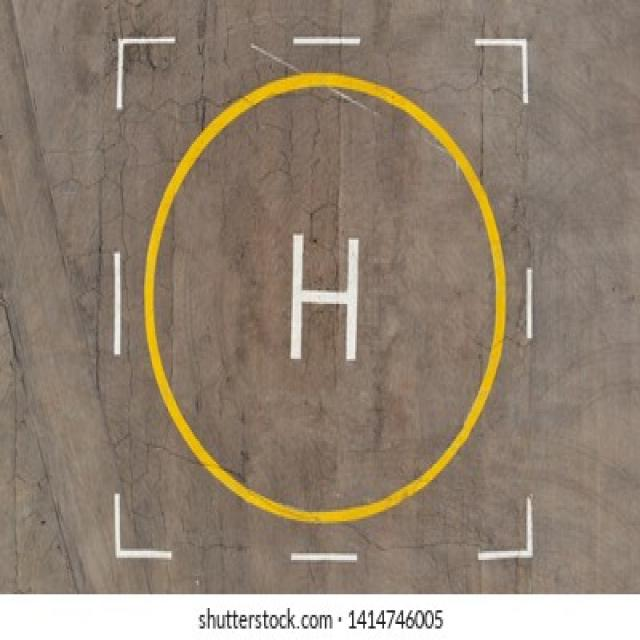helipad: (139, 66, 509, 524)
